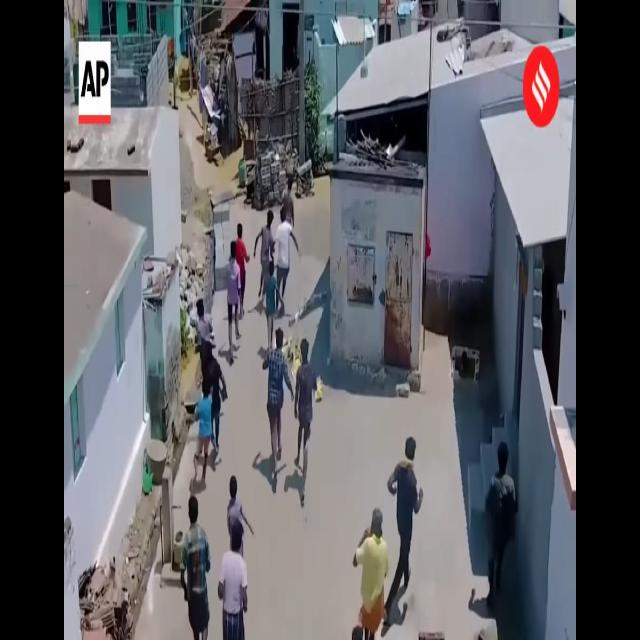humans: (386, 432, 424, 634), (260, 324, 294, 496), (178, 493, 214, 640), (352, 503, 388, 640), (292, 335, 318, 516), (215, 520, 249, 640), (200, 334, 229, 458), (273, 204, 301, 317), (193, 376, 214, 494), (252, 206, 273, 308), (226, 237, 242, 366), (225, 476, 254, 544), (235, 218, 253, 326), (263, 260, 280, 343), (194, 294, 217, 348), (282, 176, 300, 226)
